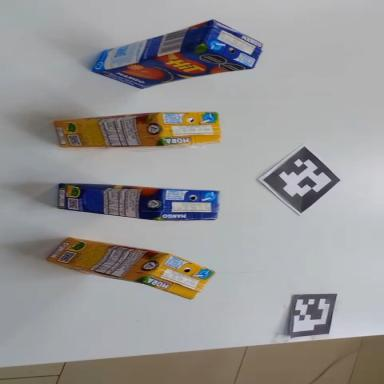HIT-MANGO: (87, 12, 266, 97), (57, 182, 219, 223)
HIT-MORA: (44, 234, 216, 302), (54, 112, 220, 147)
cara_F: (94, 37, 251, 99)
